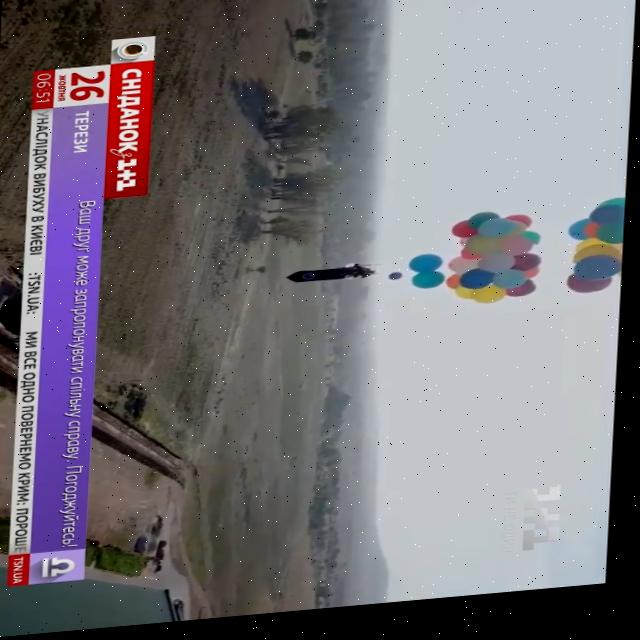balloon: (575, 254, 622, 279), (577, 267, 620, 294), (595, 209, 630, 237), (569, 285, 613, 307), (468, 245, 507, 265), (481, 263, 515, 285), (476, 294, 510, 314), (602, 231, 629, 256), (415, 279, 446, 300), (465, 280, 496, 301), (495, 280, 526, 300), (573, 231, 601, 253), (508, 290, 538, 310), (451, 264, 481, 284), (411, 264, 444, 281), (472, 222, 503, 240), (504, 251, 535, 269), (485, 228, 512, 248), (514, 263, 543, 281), (508, 230, 531, 251), (453, 231, 478, 248), (446, 285, 463, 302), (529, 240, 544, 257), (392, 281, 405, 288)
